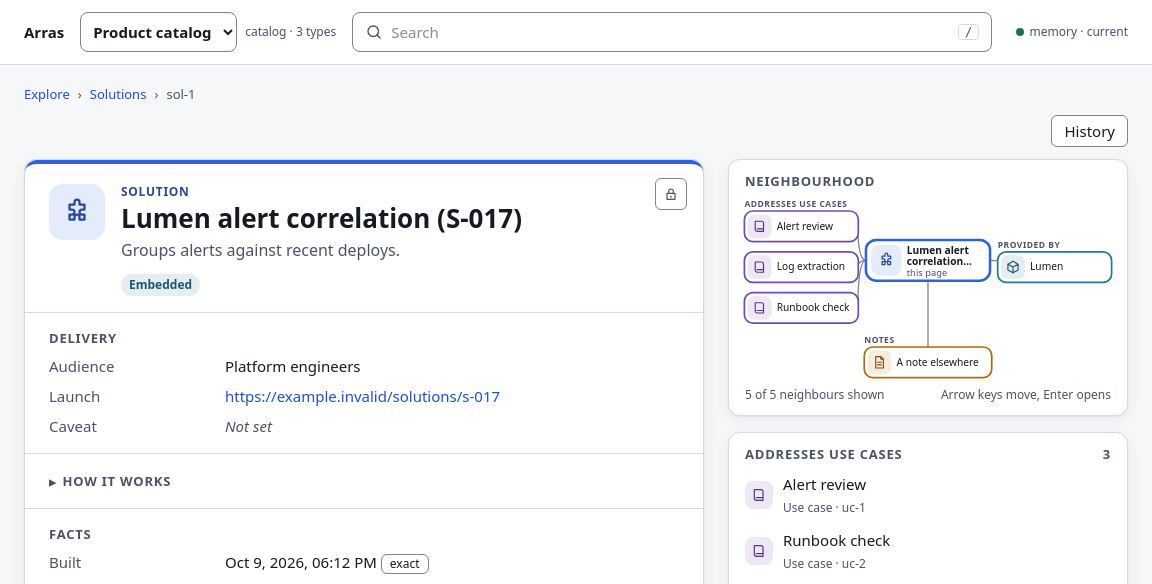
Test case: editing a property in place › says the viewer can't change it when the backend refuses, and leaves the editor open
Click the button named "Edit mode": {"x": 671, "y": 194} [655, 178, 687, 210]
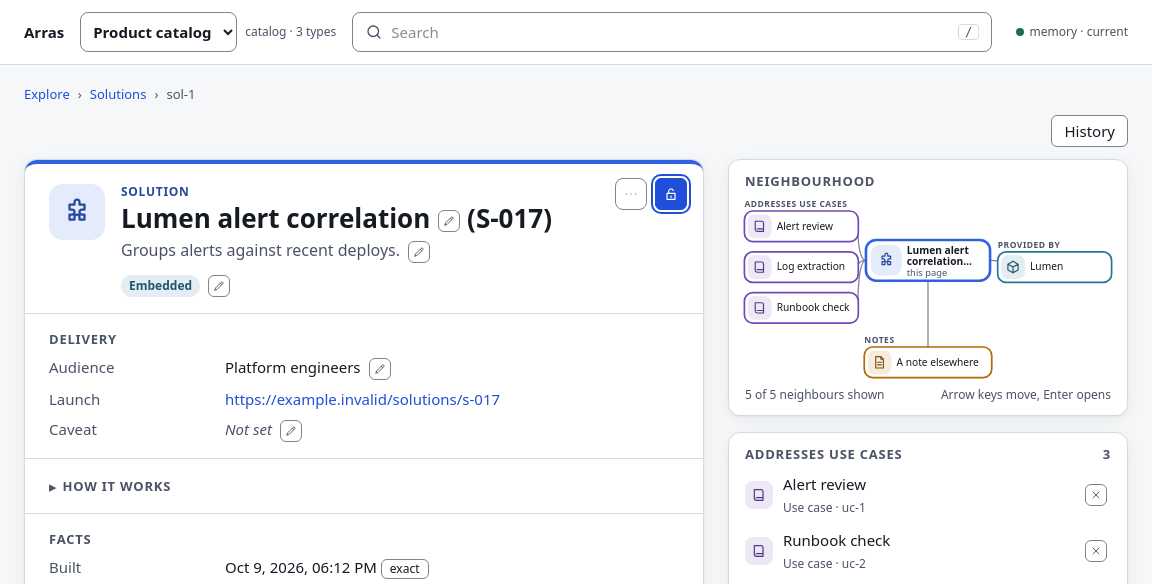
Click the button named "Edit Audience": {"x": 380, "y": 369} [368, 358, 390, 380]
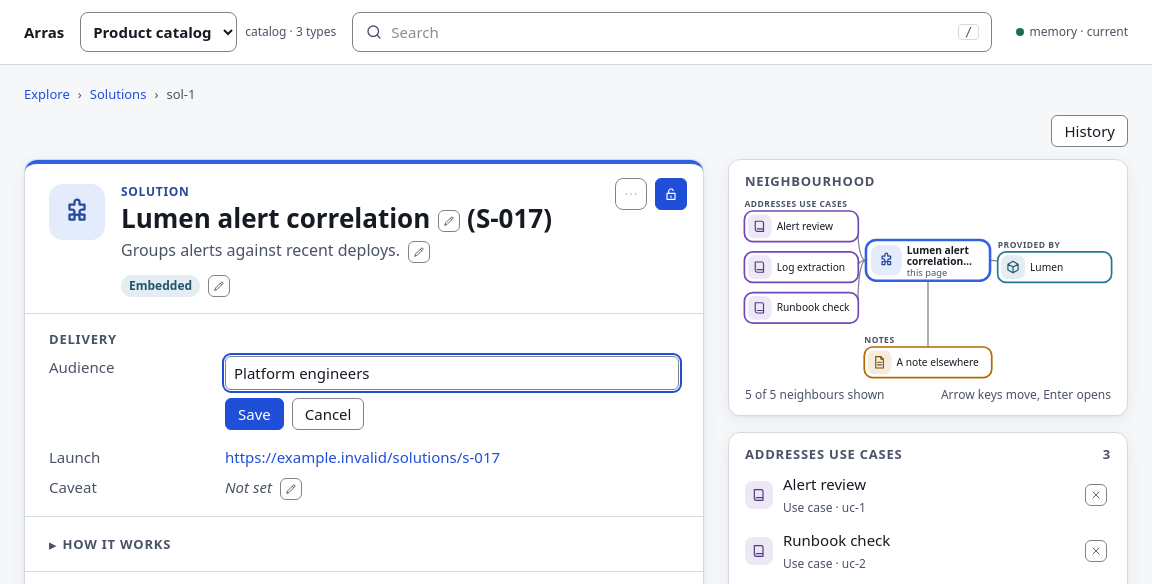
In the field named "Audience": {"x": 452, "y": 373} [225, 356, 679, 390], type "x"
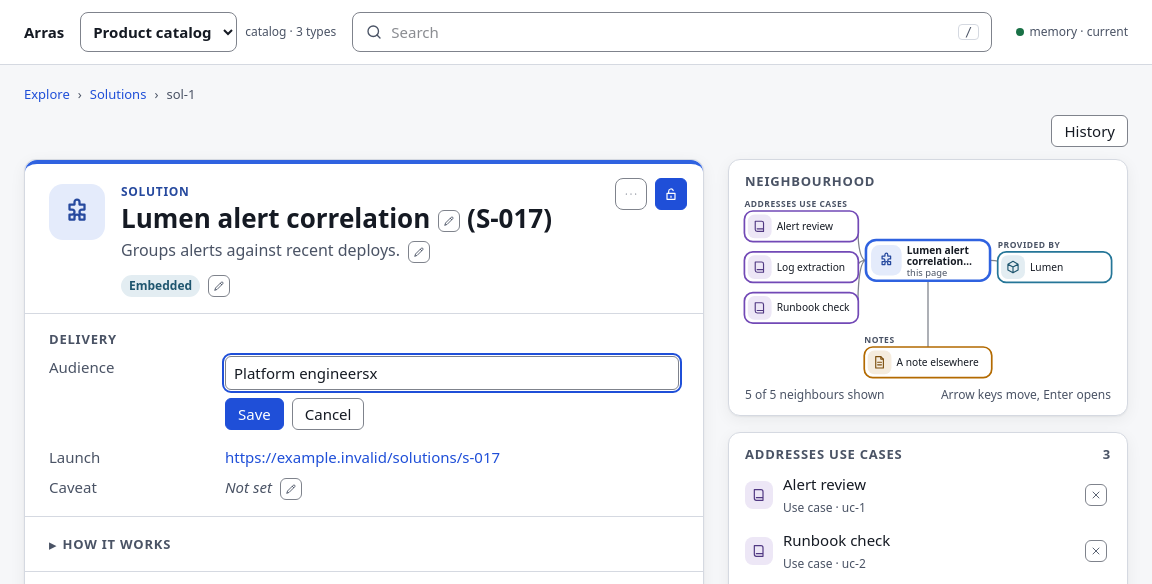
Click the button "Save": {"x": 254, "y": 414} [225, 398, 284, 430]
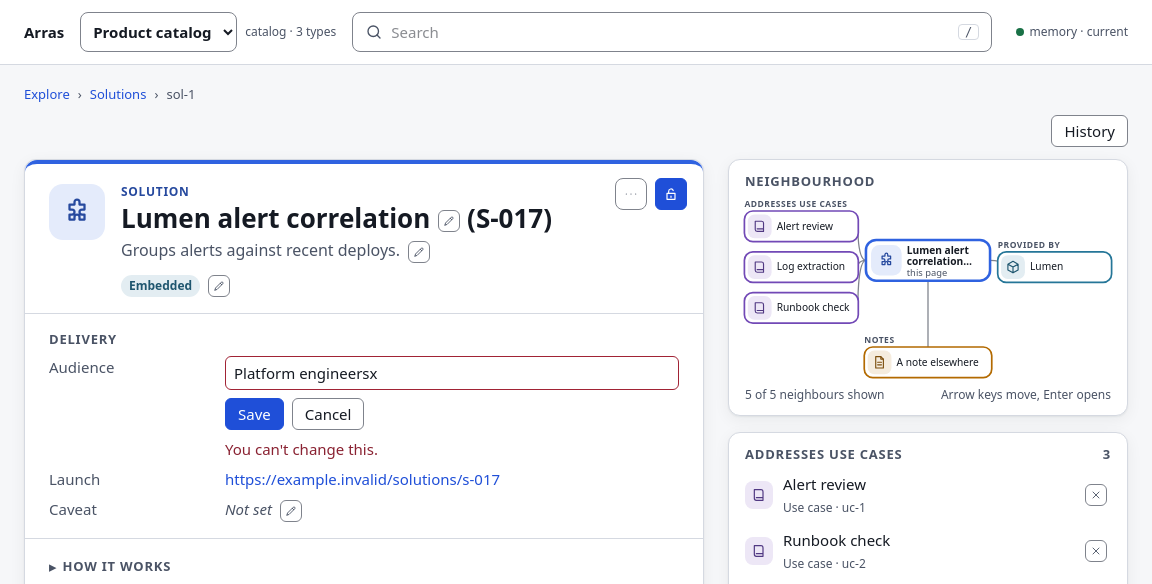
Now the field named "Audience" is shown, box [225, 356, 679, 390]
Now the message reads "You can't change this.", box [225, 439, 378, 459]
